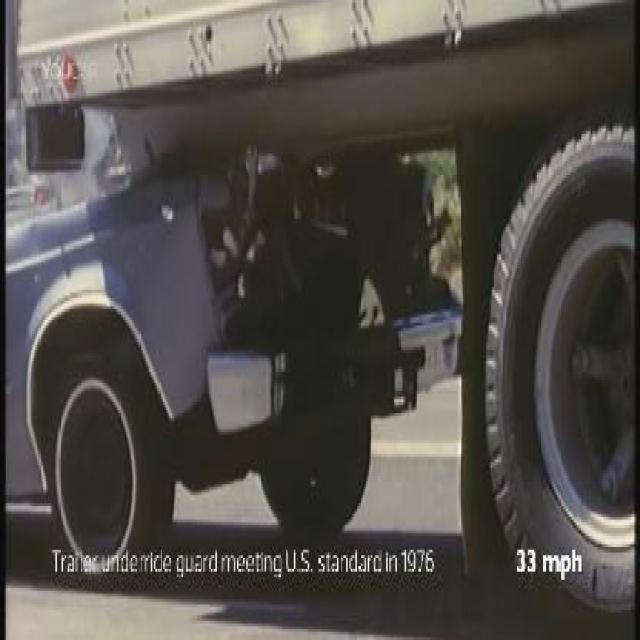accident: (1, 0, 637, 621)
